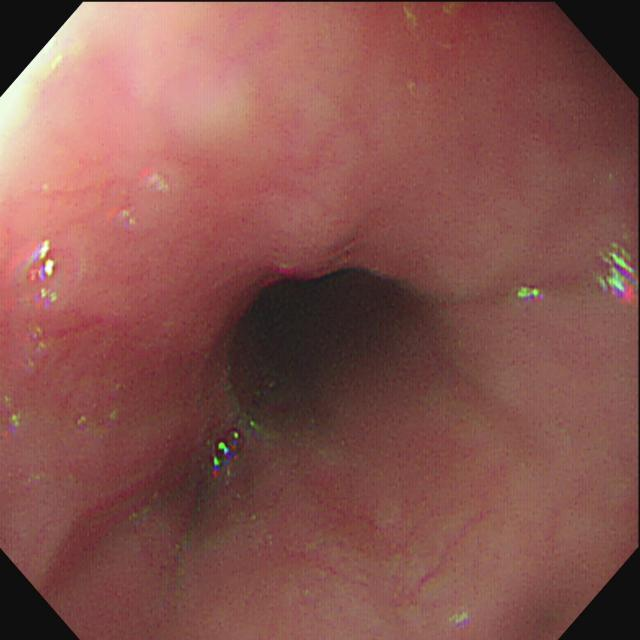E: (208, 241, 435, 452)
U: (594, 238, 639, 298), (25, 238, 60, 308), (211, 429, 246, 474), (514, 283, 544, 303)
